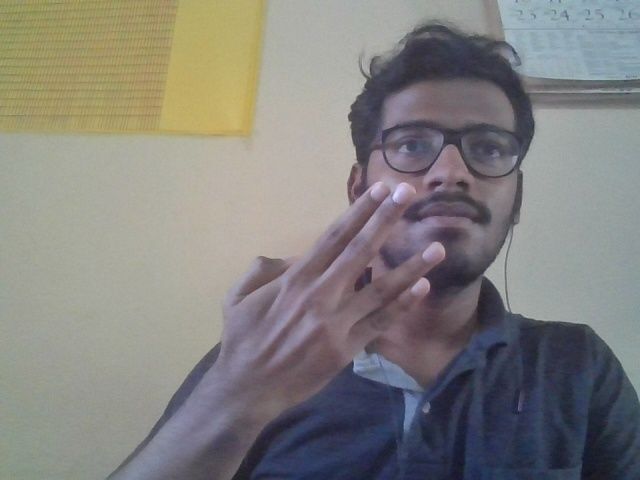LiveLong: (219, 180, 447, 416)
